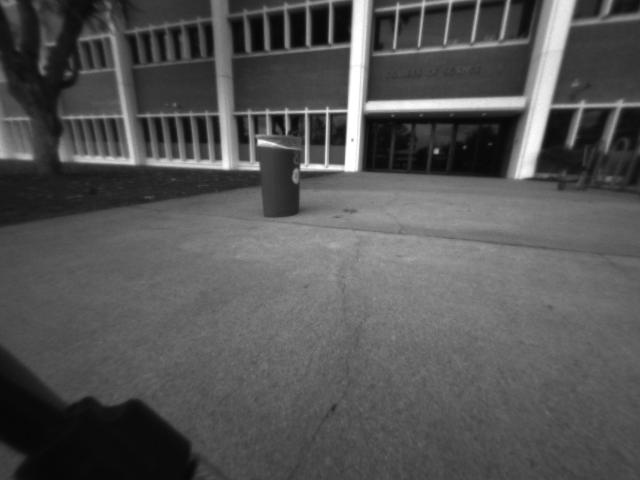trashcan_open: (252, 130, 305, 221)
